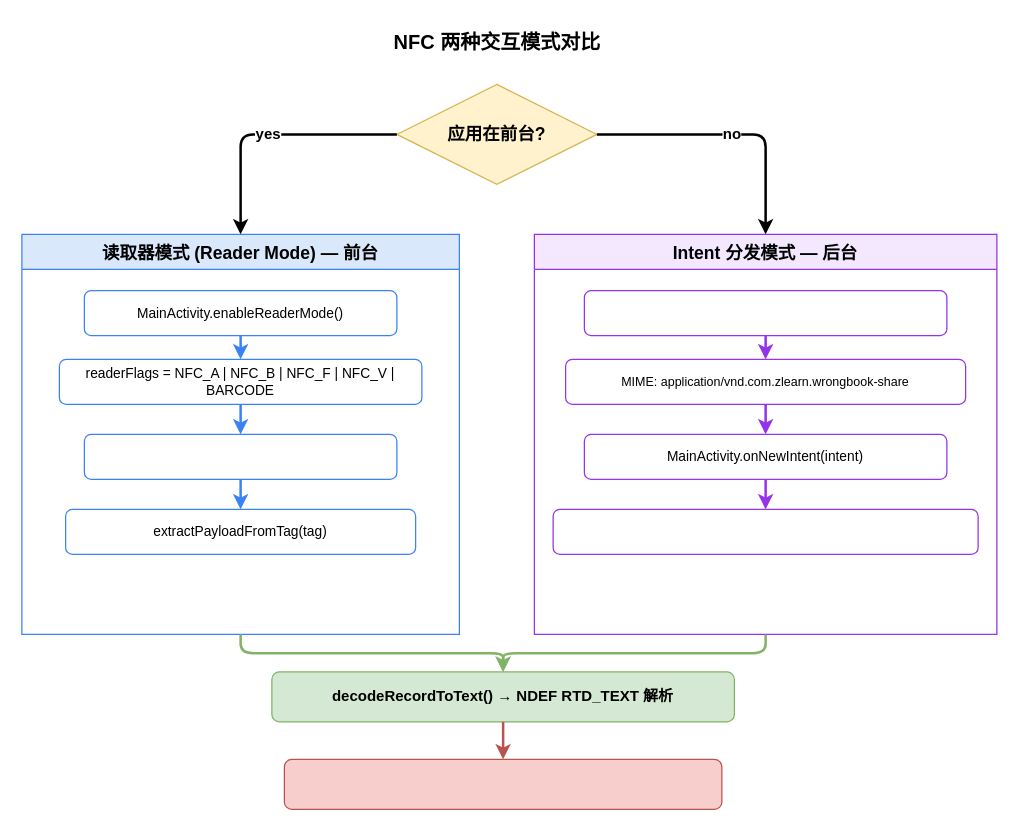
Some shapes in this 1019 by 831 pixel diagram are drawn without their labels. The centre of each missing label's shape, as x and y in pixels:
ACTION_NDEF_DISCOVERED Intent: point (765, 312)
handleNfcIntent() → extractNfcTextPayload(intent): point (765, 531)
onTagDiscovered(tag): point (240, 456)
publishIncomingPayload() → NfcViewModel 接收: point (502, 783)
